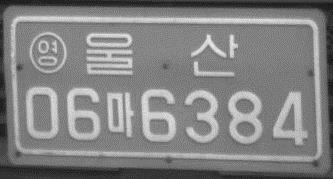0: (23, 85, 61, 140)
3: (183, 88, 220, 144)
4: (269, 89, 309, 147)
6: (139, 87, 178, 144), (65, 86, 100, 141)
8: (226, 89, 264, 145)
마: (104, 89, 135, 139)
영: (27, 29, 68, 75)
울산_D: (83, 29, 239, 79)
